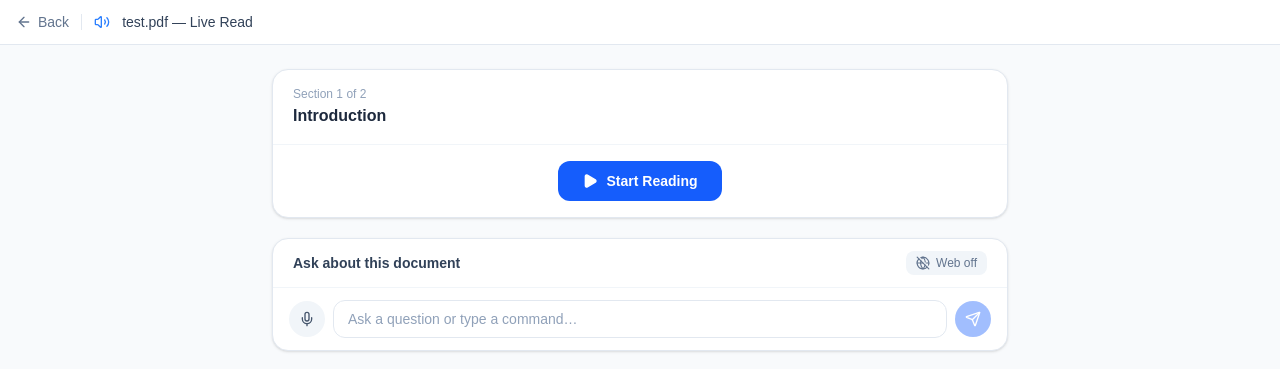
Test: LiveReader — chat panel › send button is enabled when input has text
Type "Hello?" into the field with placeholder "Ask a question or type a command…" at (640, 319), box [333,300,947,338]
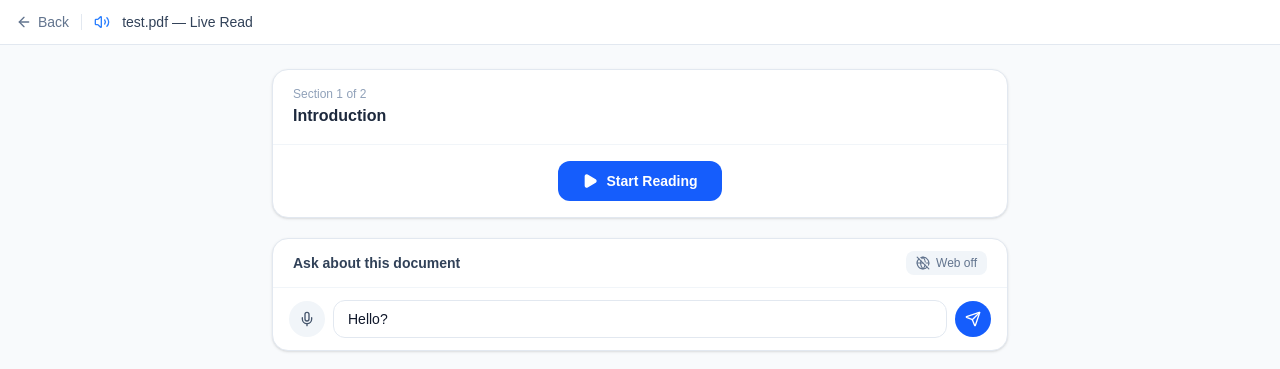
Result: the button titled "Send" is enabled at [955,301,991,337]
